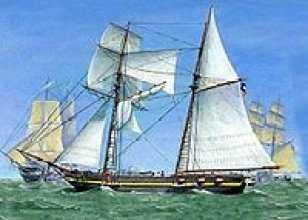fanchuan: (55, 9, 258, 189), (10, 79, 71, 178), (251, 98, 300, 180)
